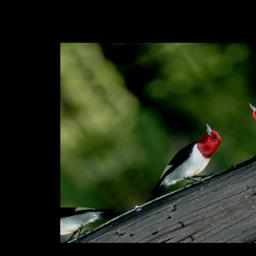Woodpecker: (116, 120, 243, 212)
